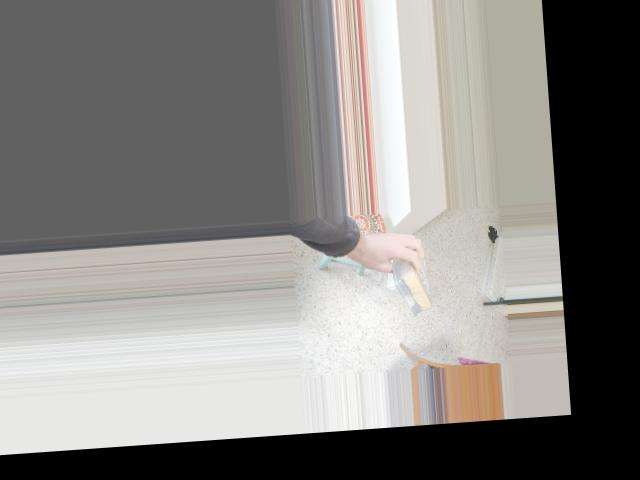cheese: (386, 231, 432, 321)
